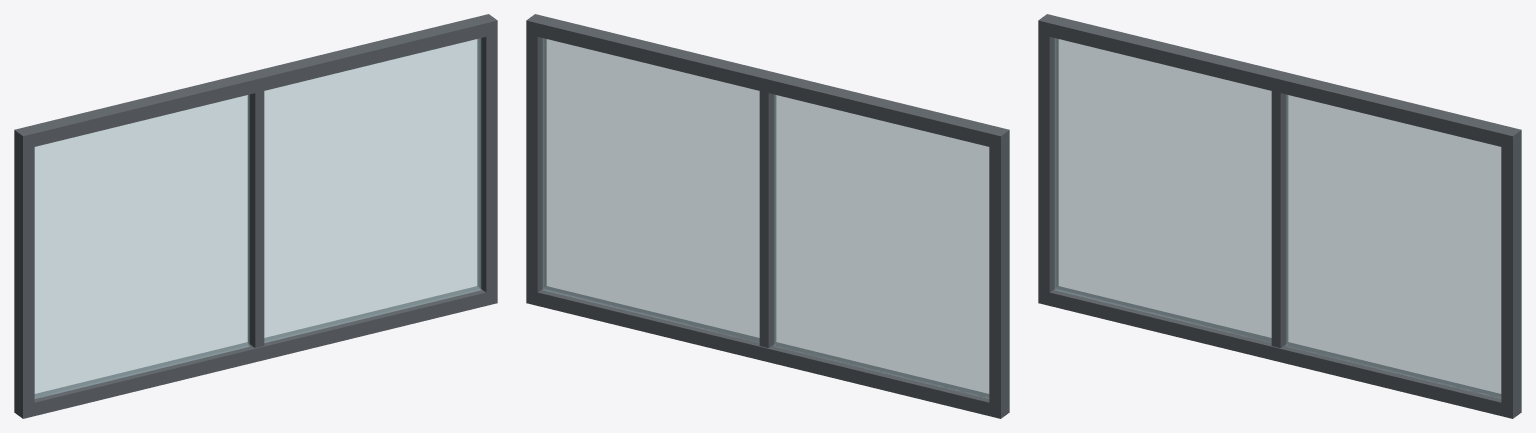
The model's file is baranda-negro-claro.glb.
3 views of the same model, side by side, from view 1: azimuth 30°, elevation 25°; view 2: azimuth 150°, elevation 25°; view 3: azimuth 330°, elevation 25° (orthographic).
Parts seen in each view (by area): view 1: glass0.45, glass-0.45, rail1.0250000000000001, rail0.025, post-0.9, post0.9, center; view 2: glass0.45, glass-0.45, rail1.0250000000000001, rail0.025, post-0.9, post0.9, center; view 3: glass-0.45, glass0.45, rail1.0250000000000001, rail0.025, post0.9, post-0.9, center.
Part boxes in pixels (x1,y1,x2,y2): glass0.45: (264,38,481,342); glass-0.45: (34,95,249,398); rail1.0250000000000001: (26,15,491,147); rail0.025: (29,286,491,415); post-0.9: (14,127,34,418); post0.9: (477,14,497,305); center: (248,71,264,347); glass0.45: (542,38,759,342); glass-0.45: (774,95,989,398); rail1.0250000000000001: (532,15,999,148); rail0.025: (532,286,994,417); post-0.9: (989,127,1009,418); post0.9: (526,14,546,304); center: (759,71,775,347); glass-0.45: (1054,38,1271,342); glass0.45: (1286,95,1501,398); rail1.0250000000000001: (1044,15,1511,147); rail0.025: (1044,286,1506,417); post0.9: (1501,127,1521,418); post-0.9: (1038,14,1058,305); center: (1271,71,1287,347).
Size of the model in its own units: 1.85 by 1.05 by 0.06.
